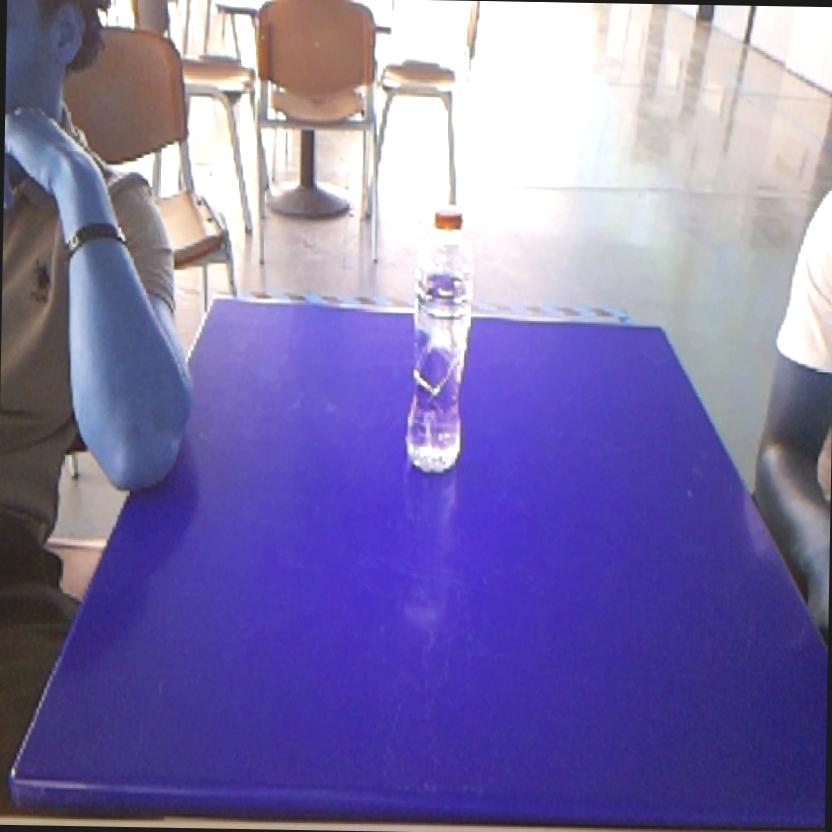no_label: (399, 190, 483, 478)
